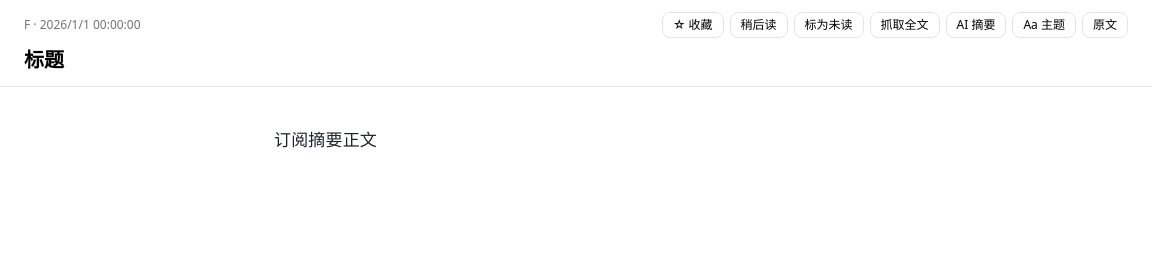
ReaderPane AI 摘要 › 缓存写回未决不阻塞卡片:成功路径不闪降级提示、按钮不重入
Click the button "AI 摘要".
click(976, 25)  # box [946,12,1006,38]
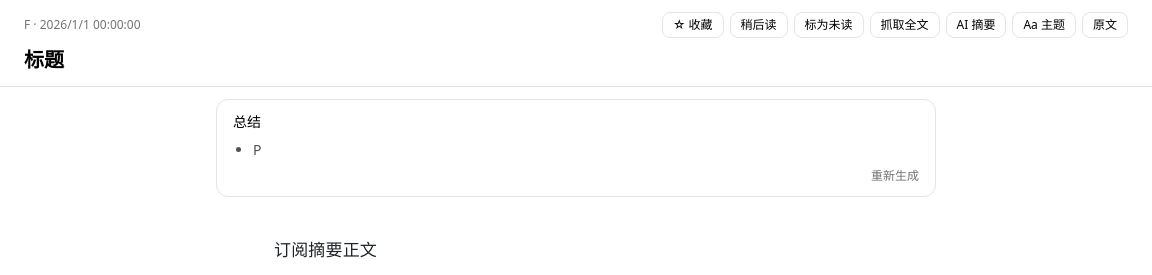
Expected: the element showing "总结 P 重新生成" is shown, [216,98,936,196]
